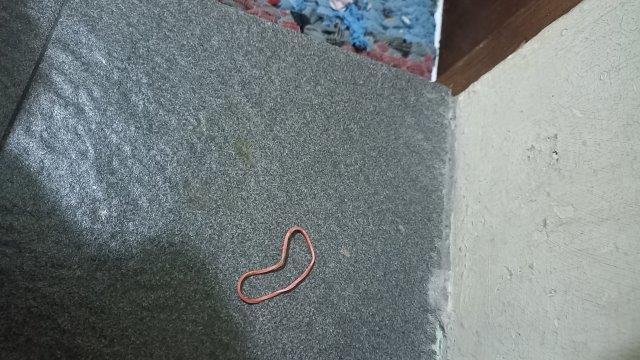karet: (237, 226, 317, 305)
